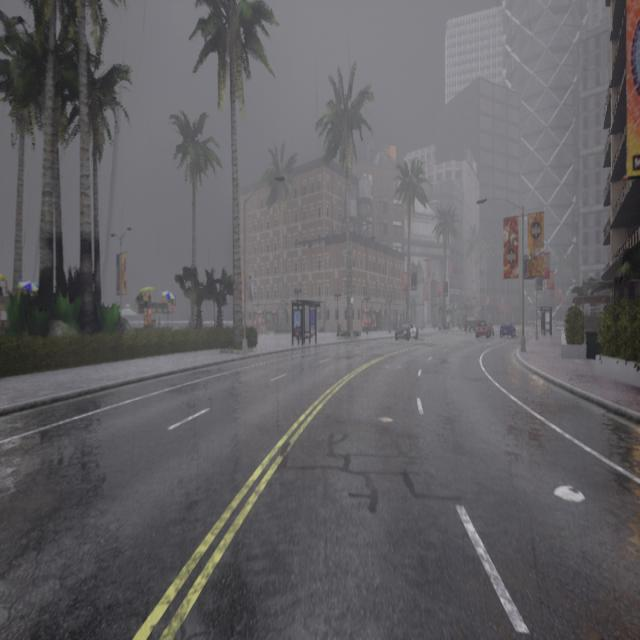9: (540, 291, 544, 299)
bien_hieu_lenh: (540, 295, 542, 298)
